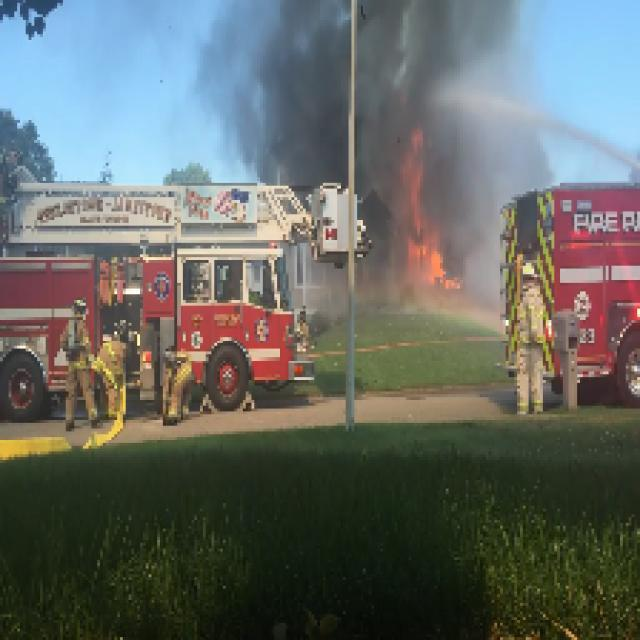Fire: (400, 132, 454, 292)
Smoke: (197, 2, 557, 308)
